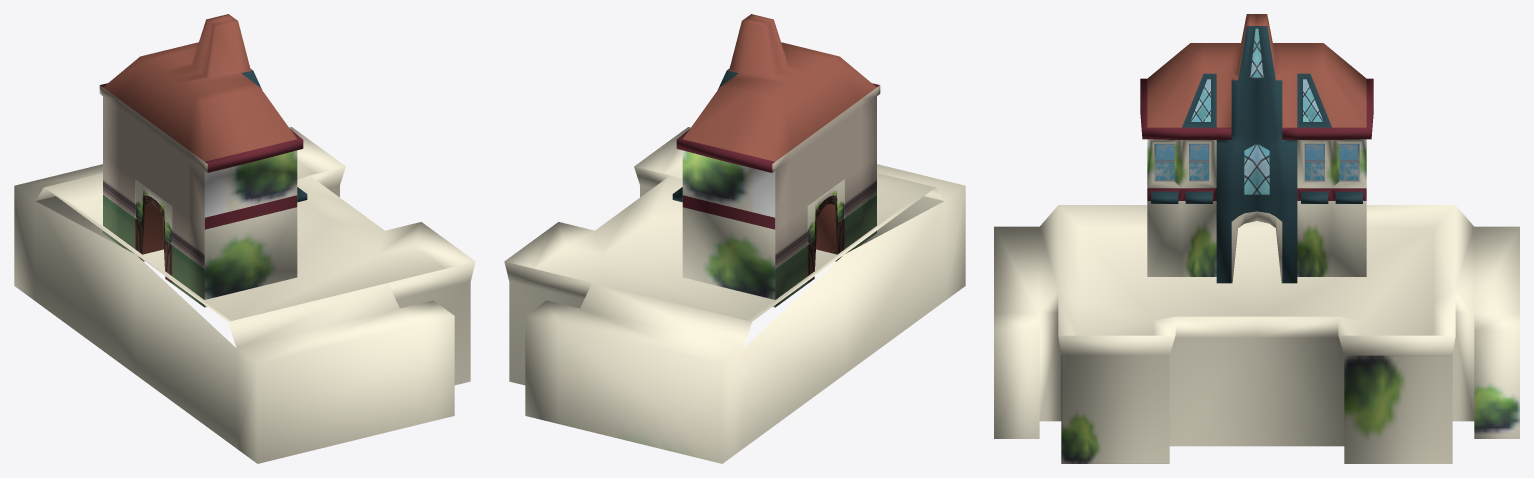
The model's file is 13-lake-house.fbx.
3 views of the same model, side by side, from view 1: azimuth 30°, elevation 25°; view 2: azimuth 150°, elevation 25°; view 3: azimuth 270°, elevation 25° (orthographic). The views are drawn at different scales.
Visible parts, largest first — view 1: 13-lakehouse; view 2: 13-lakehouse; view 3: 13-lakehouse.
Part boxes in pixels (x1,y1,x2,y2): 13-lakehouse: [14, 14, 475, 463]; 13-lakehouse: [504, 14, 965, 463]; 13-lakehouse: [994, 14, 1519, 463].
Bounding box in the file's own units: 152 × 196 × 258.
